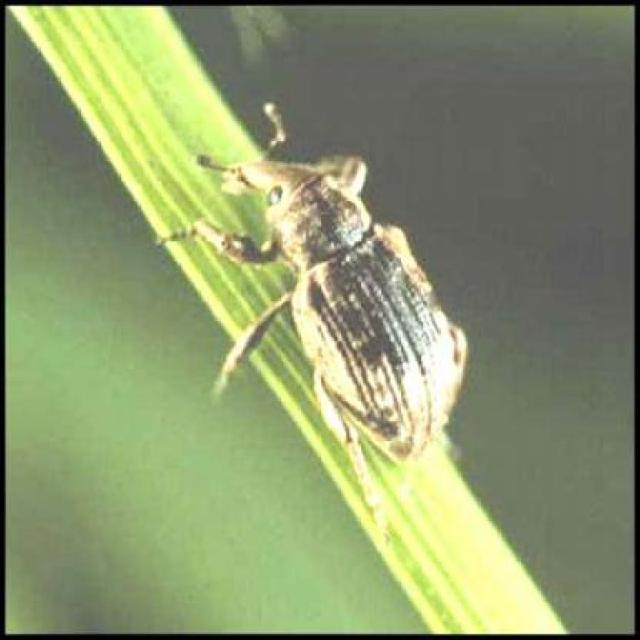rice-bug: (216, 115, 489, 483)
